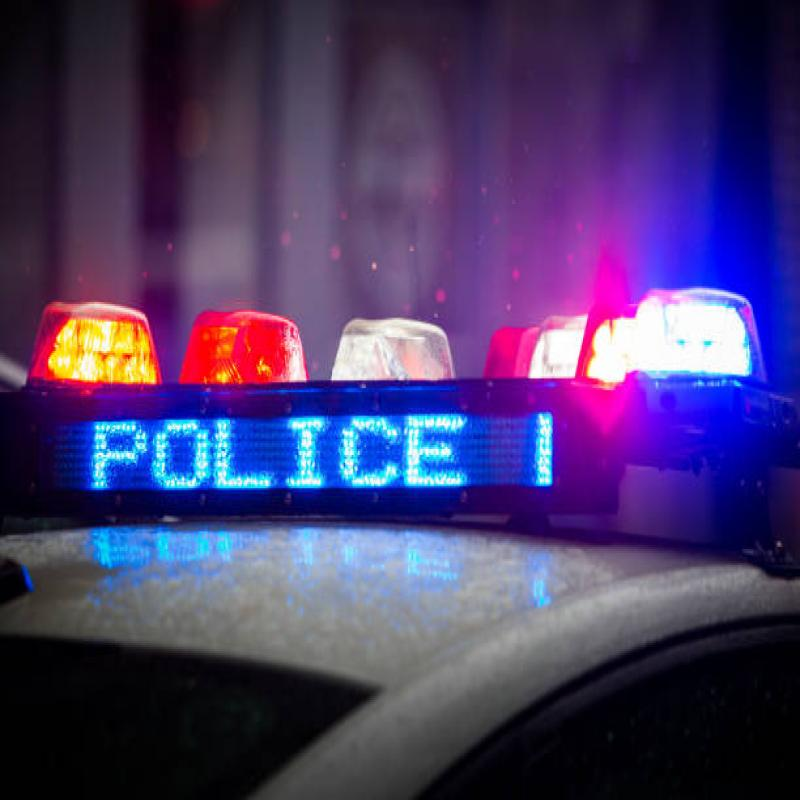AmbulanceSiren: (10, 290, 800, 527)
